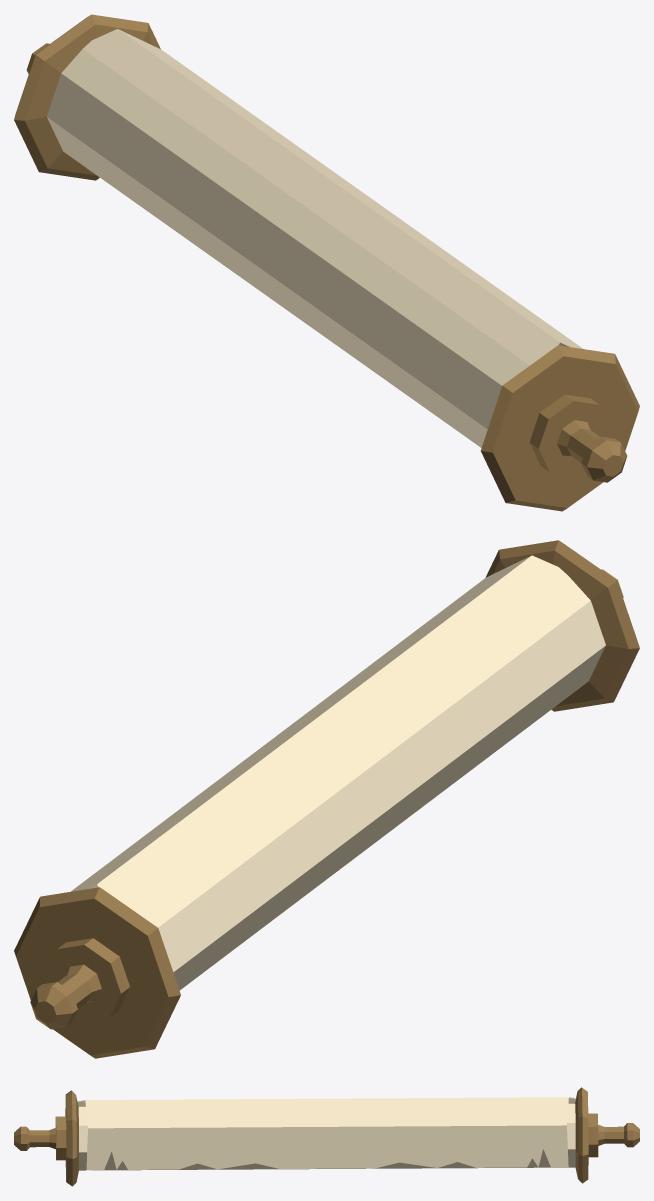
The model's file is Scroll1.fbx.
3 renders of one model, top to bottom at view 1: azimuth 30°, elevation 25°; view 2: azimuth 150°, elevation 25°; view 3: azimuth 270°, elevation 25°, orthographic. The views are drawn at different scales.
Parts seen in each view (by area): view 1: Single scroll1; view 2: Single scroll1; view 3: Single scroll1.
Boxes of the visible parts, x1,y1,x2,y2 form: Single scroll1: (14,14,639,511); Single scroll1: (14,540,639,1058); Single scroll1: (14,1087,639,1186).
Bounding box in the file's own units: 17.34 × 16.15 × 97.82.
